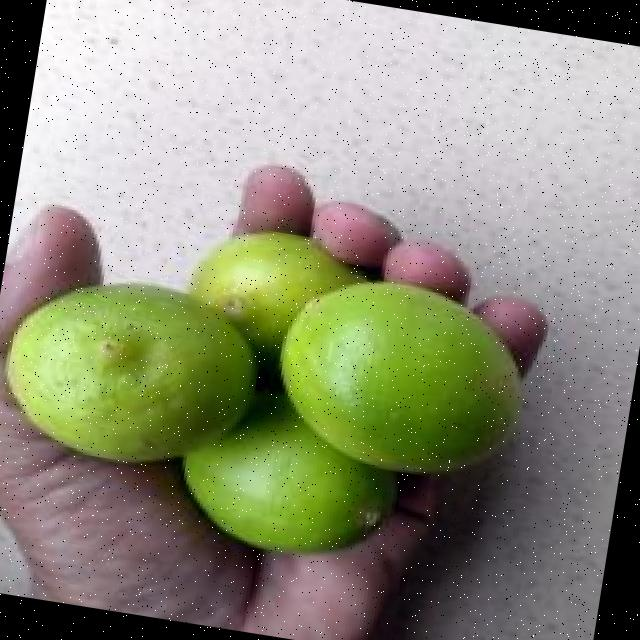lemon: (281, 282, 521, 472), (9, 284, 256, 462), (184, 394, 397, 552), (189, 232, 365, 358)
